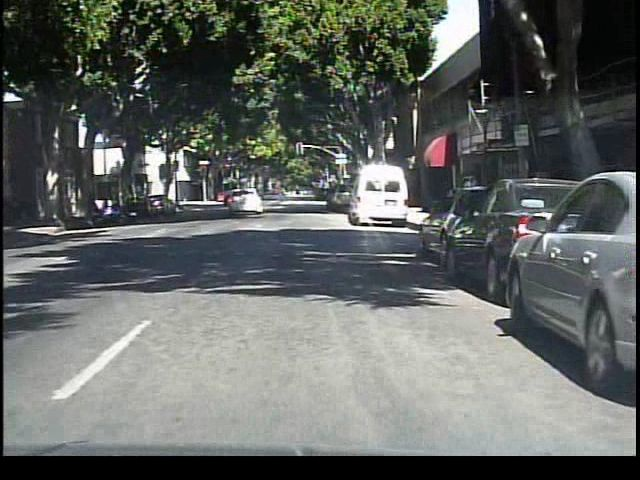person: (457, 167, 482, 228), (269, 177, 289, 210)
